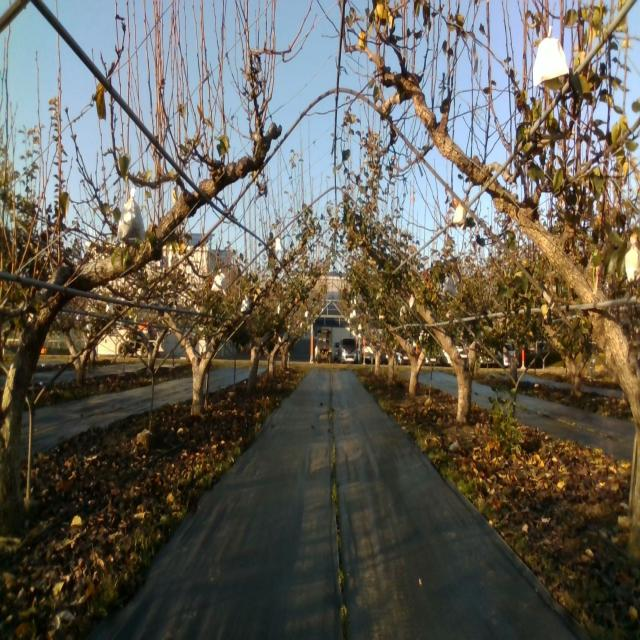pearbags: (532, 25, 570, 89), (117, 188, 146, 243), (624, 243, 640, 282), (452, 200, 467, 232), (211, 268, 225, 292), (443, 275, 456, 297)
